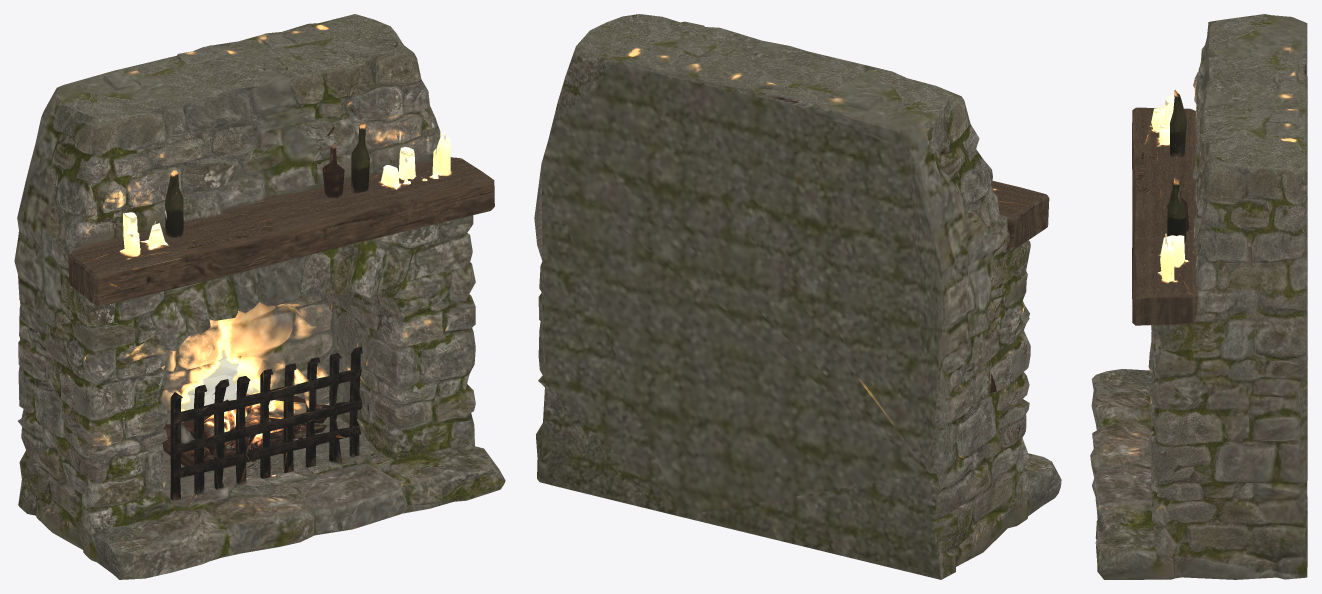
File: fp_unlit.glb
The picture shows the model from 3 angles, left to right: view 1: azimuth 30°, elevation 25°; view 2: azimuth 150°, elevation 25°; view 3: azimuth 270°, elevation 25°; orthographic projection. The views are drawn at different scales.
Visible parts, largest first — view 1: Mesh_0; view 2: Mesh_0; view 3: Mesh_0.
Part boxes in pixels (bbox=[...]): Mesh_0: bbox=[14, 14, 505, 579]; Mesh_0: bbox=[534, 14, 1061, 579]; Mesh_0: bbox=[1090, 14, 1307, 579].
Size of the model in its own units: 1.9 by 1.9 by 0.9191.
1 material, 1 textured.
